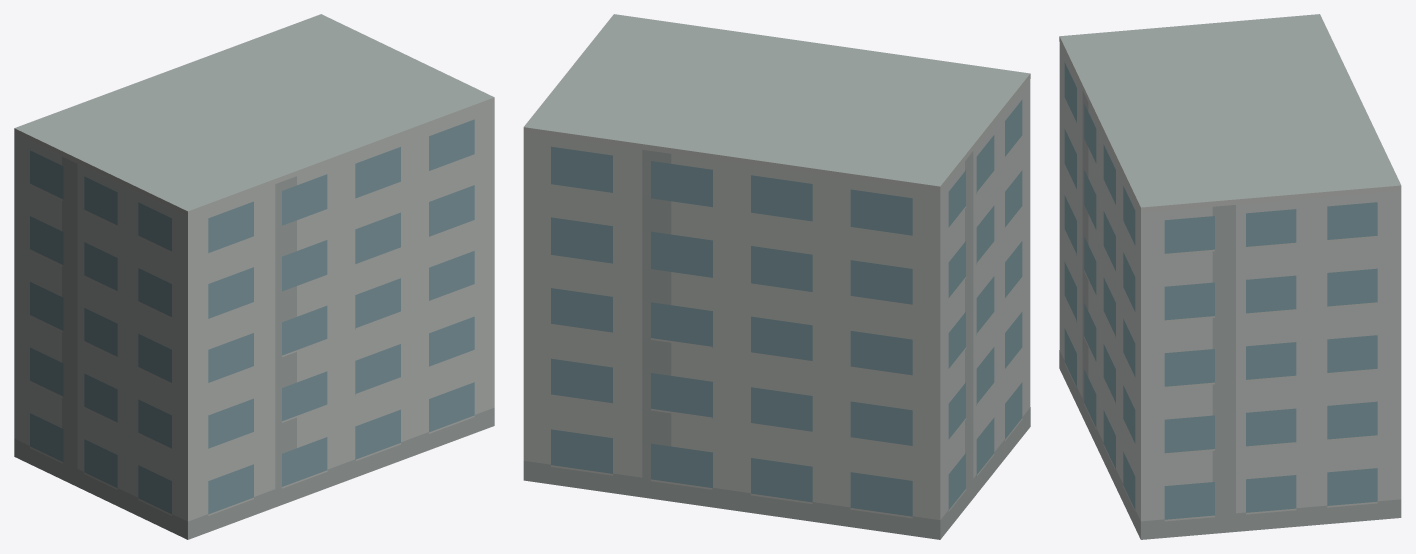
File: residential-731613e5-6161-4e28-ad0f-46cd2ff7ee0a.glb
3 views of the same model, side by side, from view 1: azimuth 30°, elevation 25°; view 2: azimuth 150°, elevation 25°; view 3: azimuth 270°, elevation 25° (orthographic). The views are drawn at different scales.
Visible parts, largest first — view 1: residential-731613e5-6161-4e28-ad0f-46cd2ff7ee0a.tmp; view 2: residential-731613e5-6161-4e28-ad0f-46cd2ff7ee0a.tmp; view 3: residential-731613e5-6161-4e28-ad0f-46cd2ff7ee0a.tmp.
Part boxes in pixels (box(x1,y1,x2,y2)): residential-731613e5-6161-4e28-ad0f-46cd2ff7ee0a.tmp: box(14, 14, 494, 539); residential-731613e5-6161-4e28-ad0f-46cd2ff7ee0a.tmp: box(523, 14, 1030, 539); residential-731613e5-6161-4e28-ad0f-46cd2ff7ee0a.tmp: box(1059, 14, 1401, 539).
Bounding box in the file's own units: 19.05 × 15.25 × 14.23.
